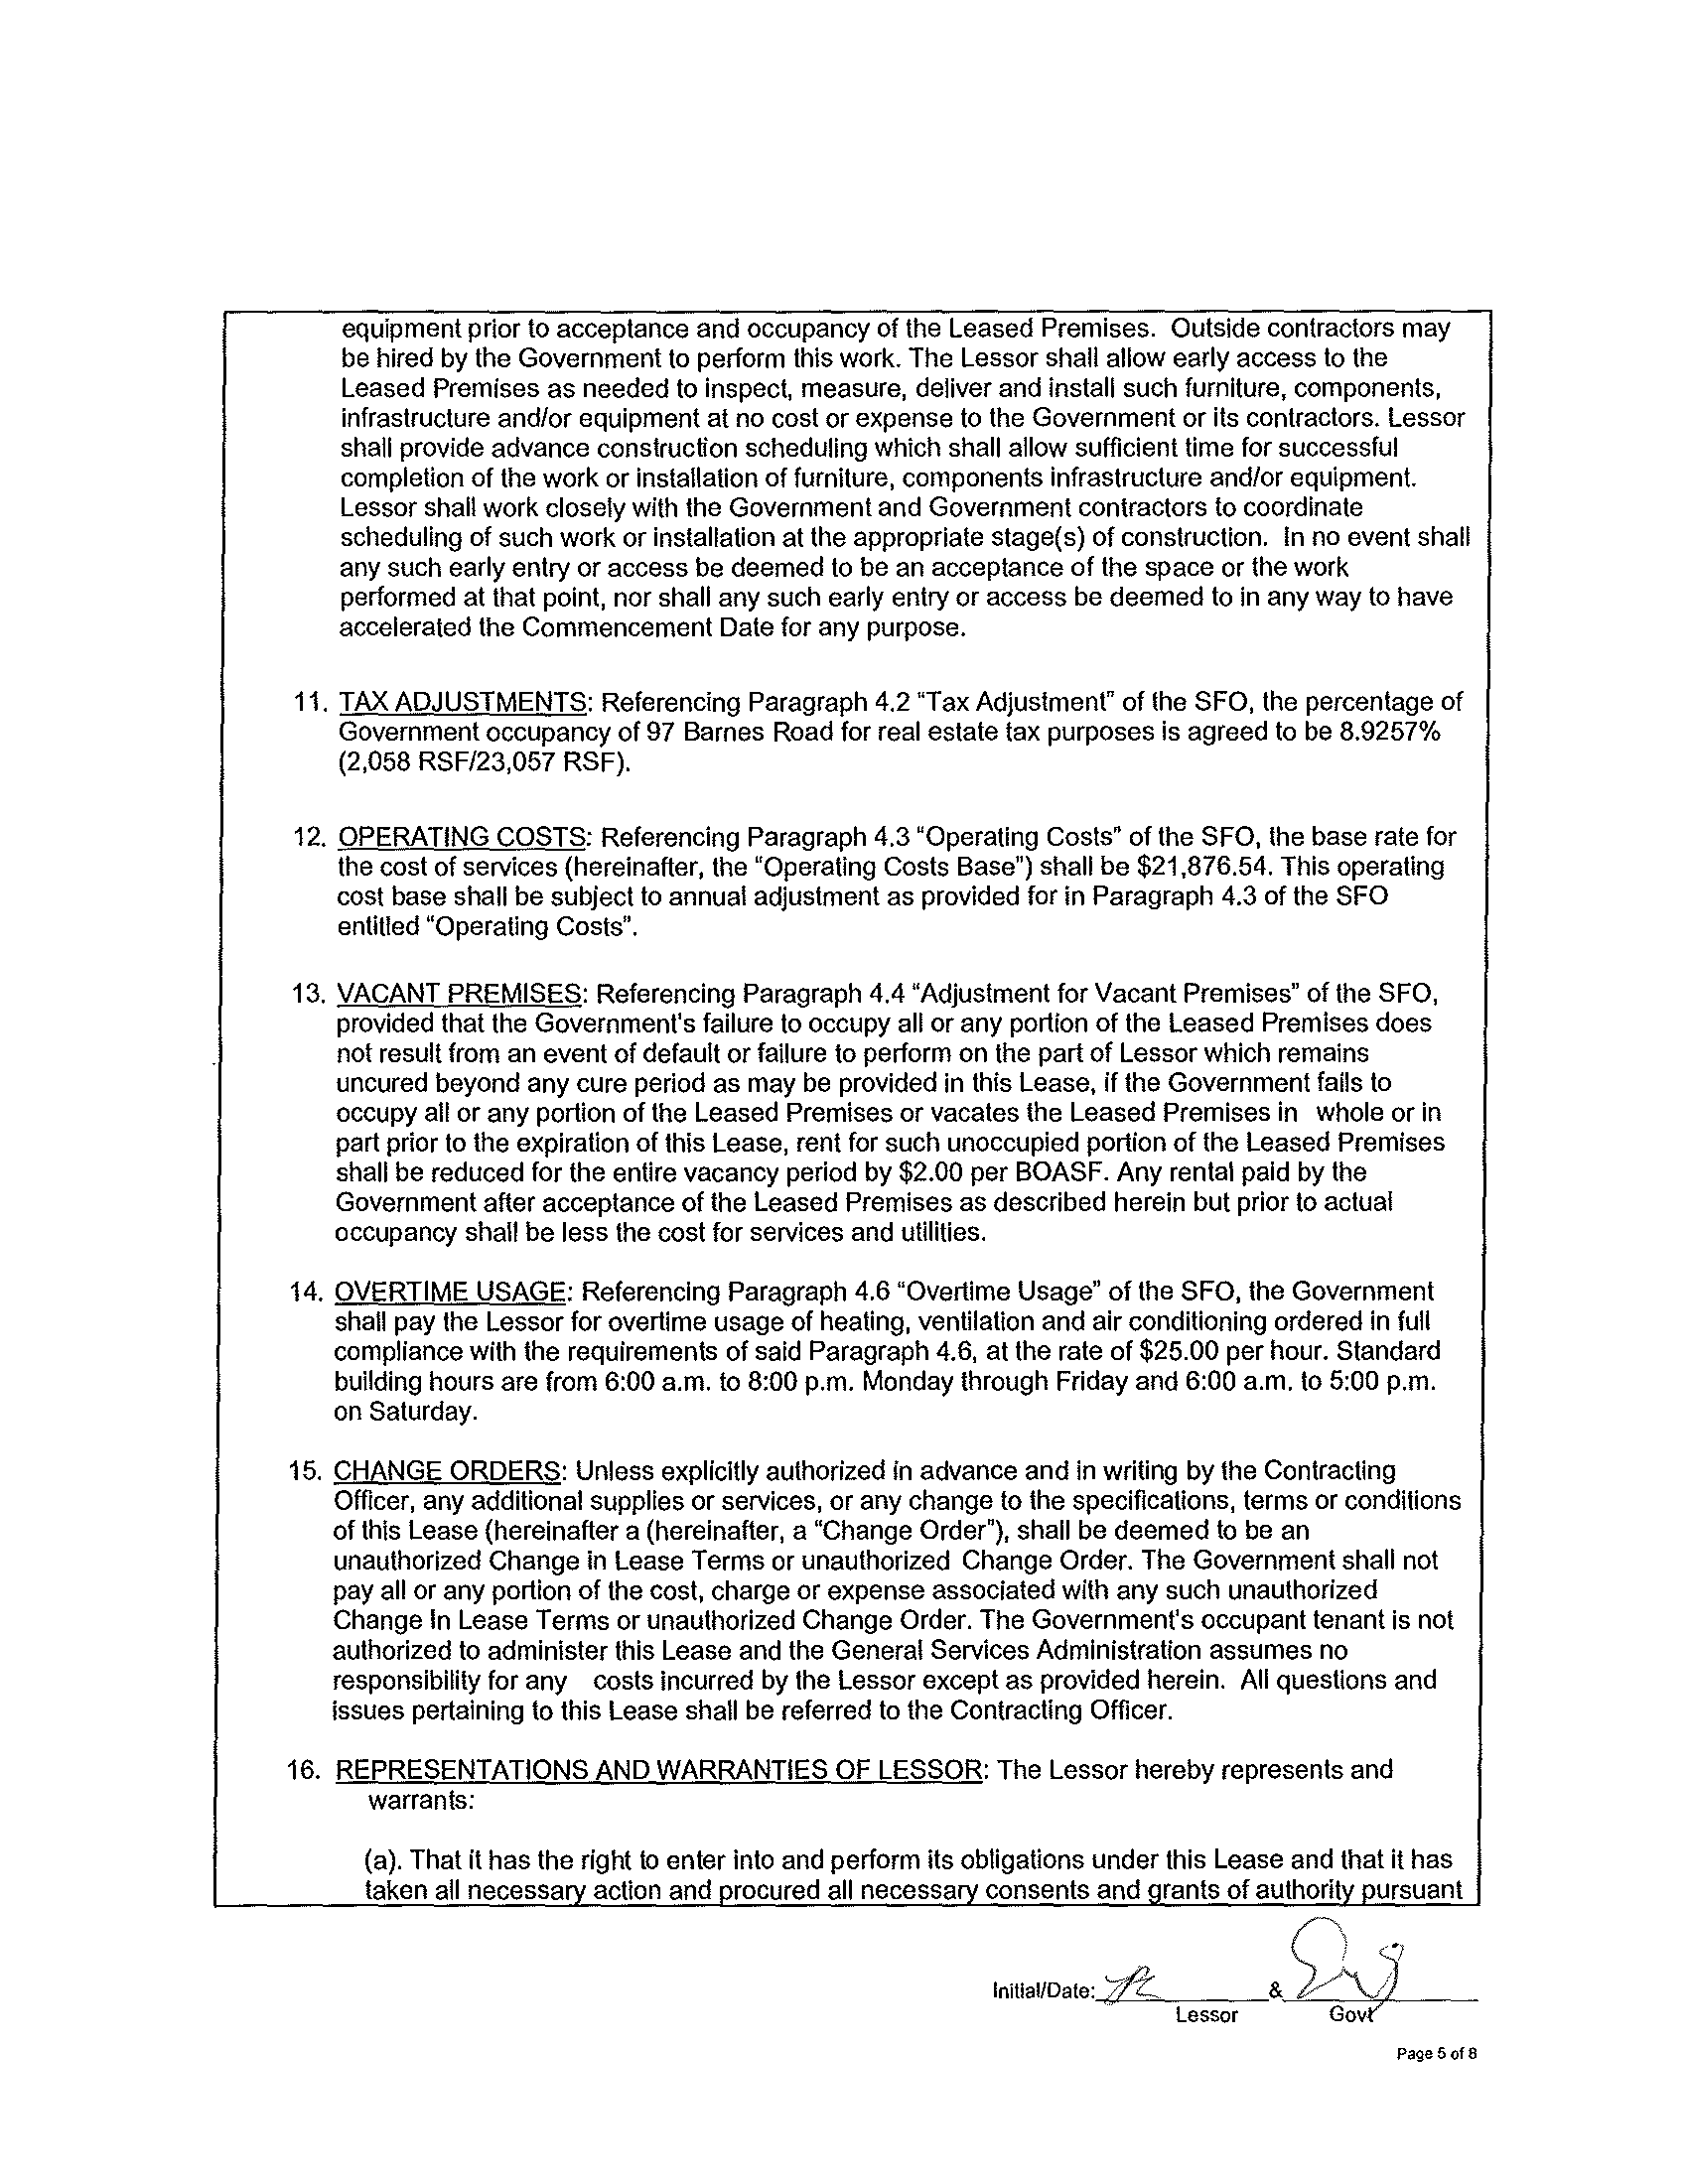handwritten: (1282, 1909, 1450, 2005), (1096, 1939, 1188, 2000)
